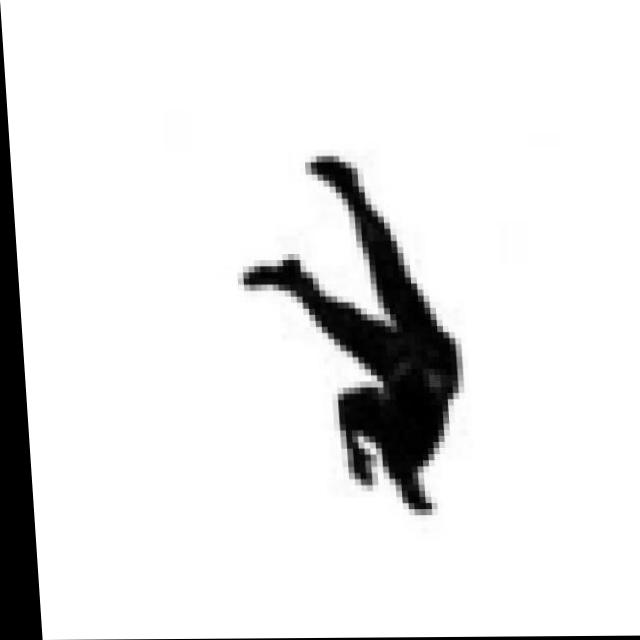fall: (226, 143, 464, 523)
